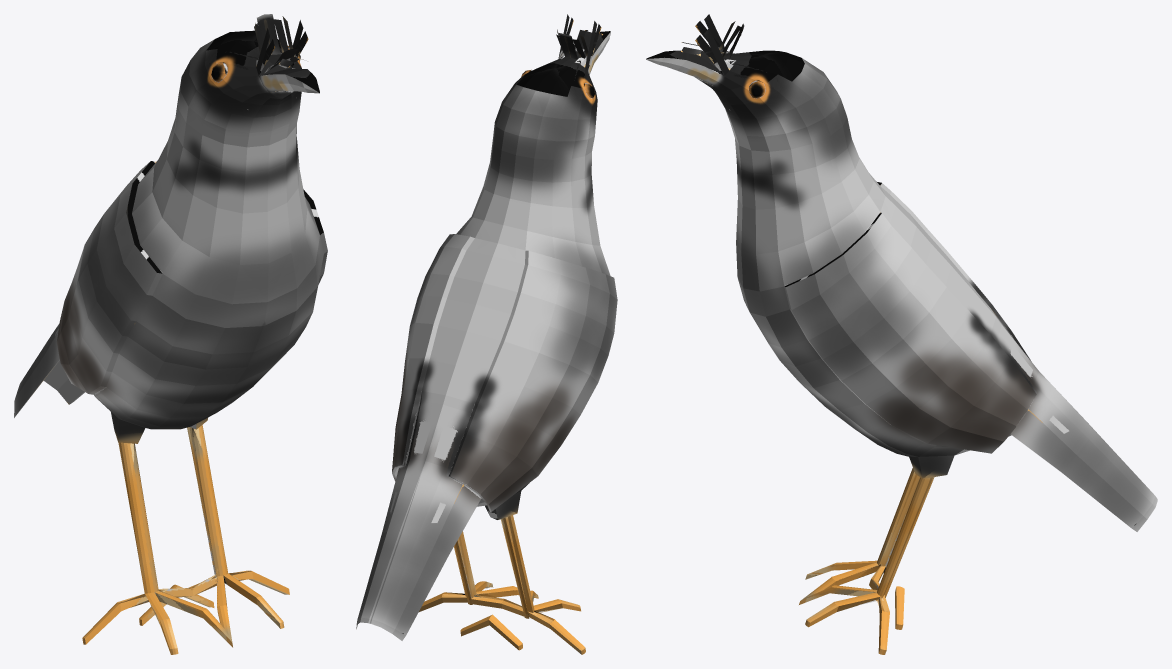
File: Color_myna 1.fbx
3 views of the same model, side by side, from view 1: azimuth 30°, elevation 25°; view 2: azimuth 150°, elevation 25°; view 3: azimuth 270°, elevation 25° (orthographic). The views are drawn at different scales.
Parts seen in each view (by area): view 1: Bird Myna; view 2: Bird Myna; view 3: Bird Myna.
Part boxes in pixels (<box>): Bird Myna: <box>14,14,327,654</box>; Bird Myna: <box>356,14,617,654</box>; Bird Myna: <box>646,14,1157,654</box>.
Size of the model in its own units: 698 by 2133 by 1666.
